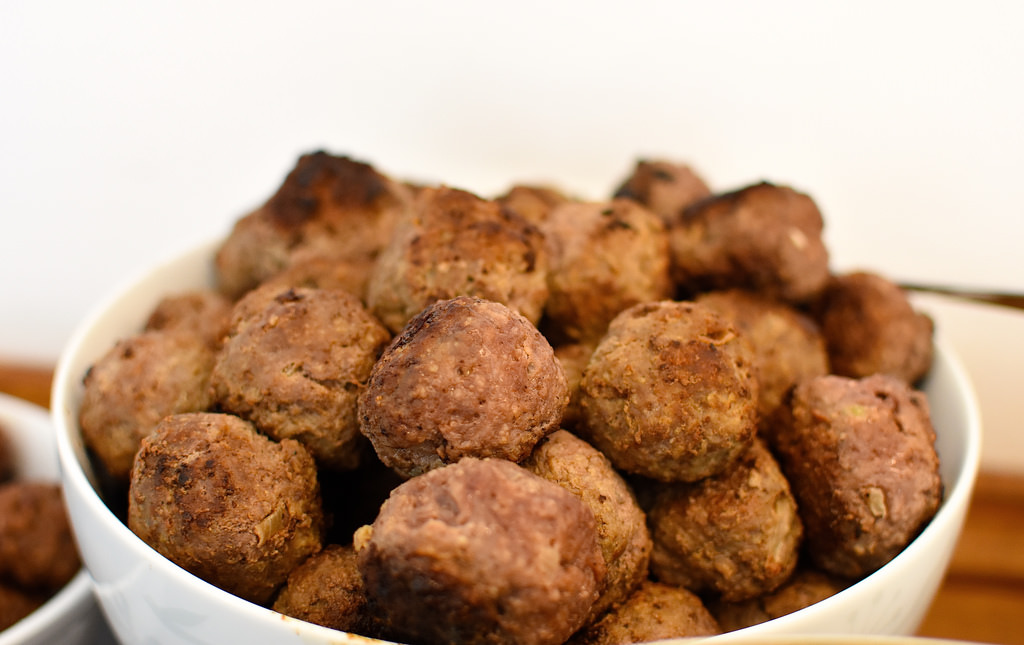meatballs: (227, 206, 875, 542)
